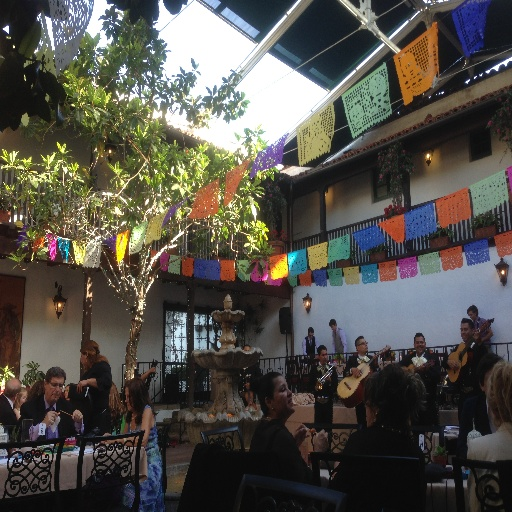hand: (293, 421, 310, 447), (313, 427, 329, 450), (42, 409, 58, 423), (76, 378, 87, 394), (70, 407, 82, 421), (101, 430, 112, 443), (471, 331, 481, 345), (446, 359, 459, 369), (350, 367, 361, 378), (370, 353, 378, 367), (105, 436, 116, 444), (325, 370, 331, 383), (419, 363, 426, 373), (243, 382, 250, 391), (149, 366, 155, 372), (314, 385, 319, 391), (342, 357, 347, 363), (241, 391, 245, 398), (308, 354, 311, 360)
